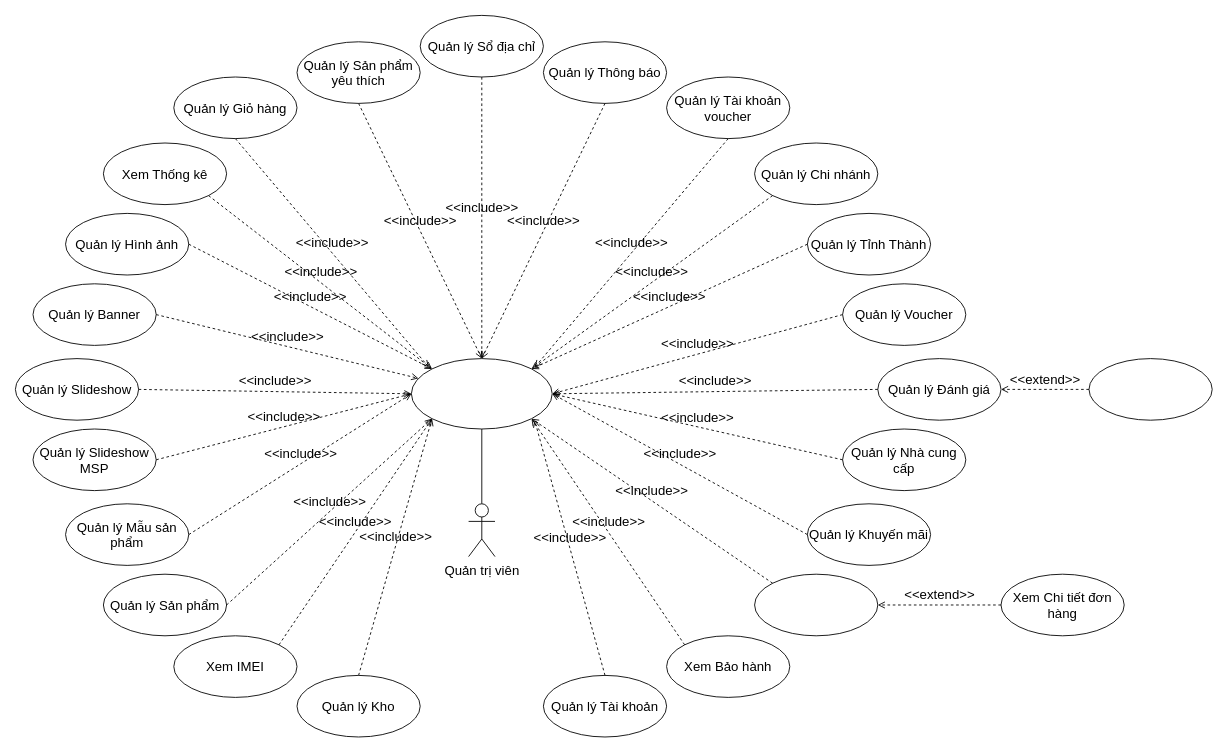
The diagram is 1228 pixels wide and 752 high, and some of its shapes have lost their labels. The centre of each missing label's shape, as x and y in pixels:
Quản lý Đơn hàng: the point at 816,604
Xem Phản hồi: the point at 1150,389
Đăng nhập: the point at 481,393
